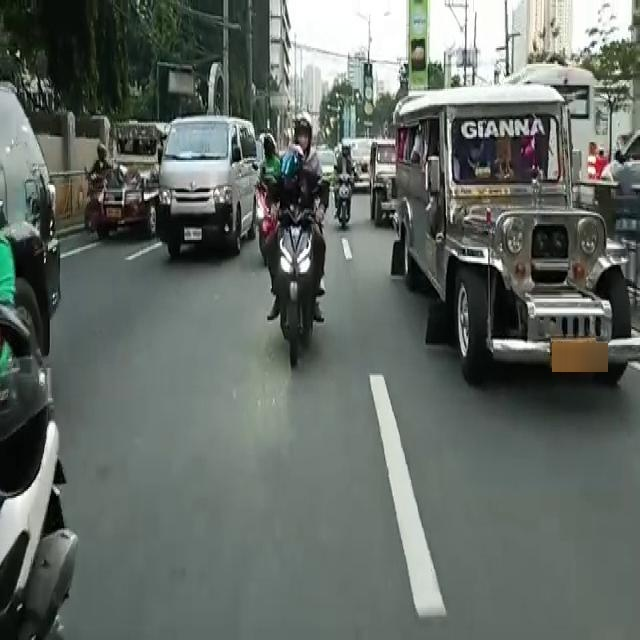car: (165, 120, 252, 259)
jeepney: (410, 96, 612, 399), (102, 130, 158, 233), (372, 143, 402, 227), (348, 141, 372, 195)
motorcycle: (273, 124, 319, 370), (264, 142, 282, 258), (328, 148, 353, 228), (82, 142, 102, 230)
